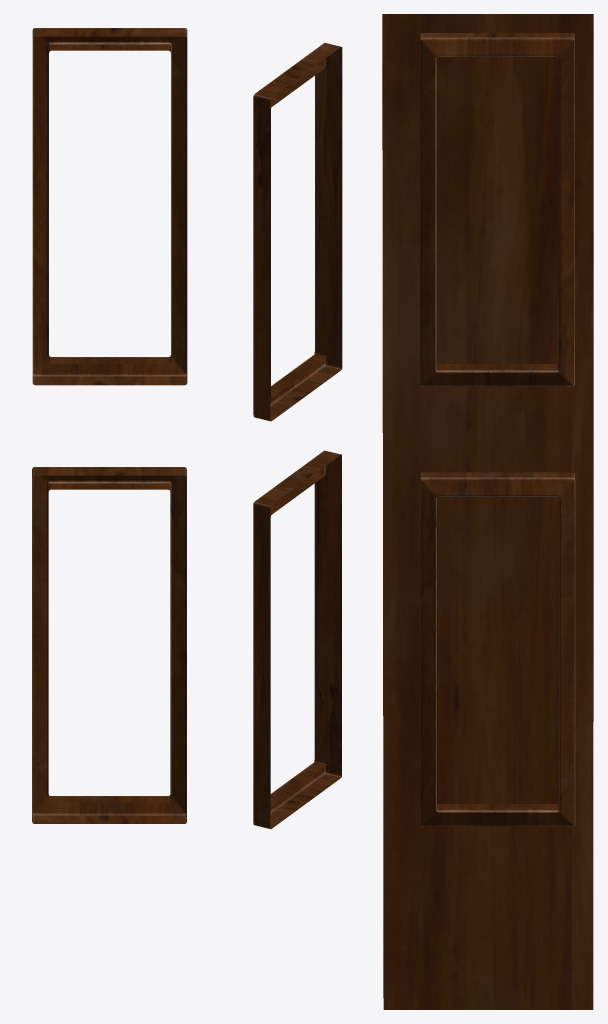
The model's file is Kitchen_GEO_GRP1_Kitchen_94.obj.
The picture shows the model from 3 angles, left to right: view 1: azimuth 90°, elevation 25°; view 2: azimuth 150°, elevation 25°; view 3: azimuth 270°, elevation 25°; orthographic projection. The views are drawn at different scales.
Visible parts, largest first — view 1: Kitchen_GEO_GRP1_Kitchen_94; view 2: Kitchen_GEO_GRP1_Kitchen_94; view 3: Kitchen_GEO_GRP1_Kitchen_94.
Boxes of the visible parts, bbox=[...] form: Kitchen_GEO_GRP1_Kitchen_94: bbox=[32, 28, 187, 823]; Kitchen_GEO_GRP1_Kitchen_94: bbox=[253, 42, 342, 828]; Kitchen_GEO_GRP1_Kitchen_94: bbox=[382, 14, 593, 1009].
Size of the model in its own units: 0.0577 by 2.47 by 0.4742.
Materials: 1 (1 with a texture image).
